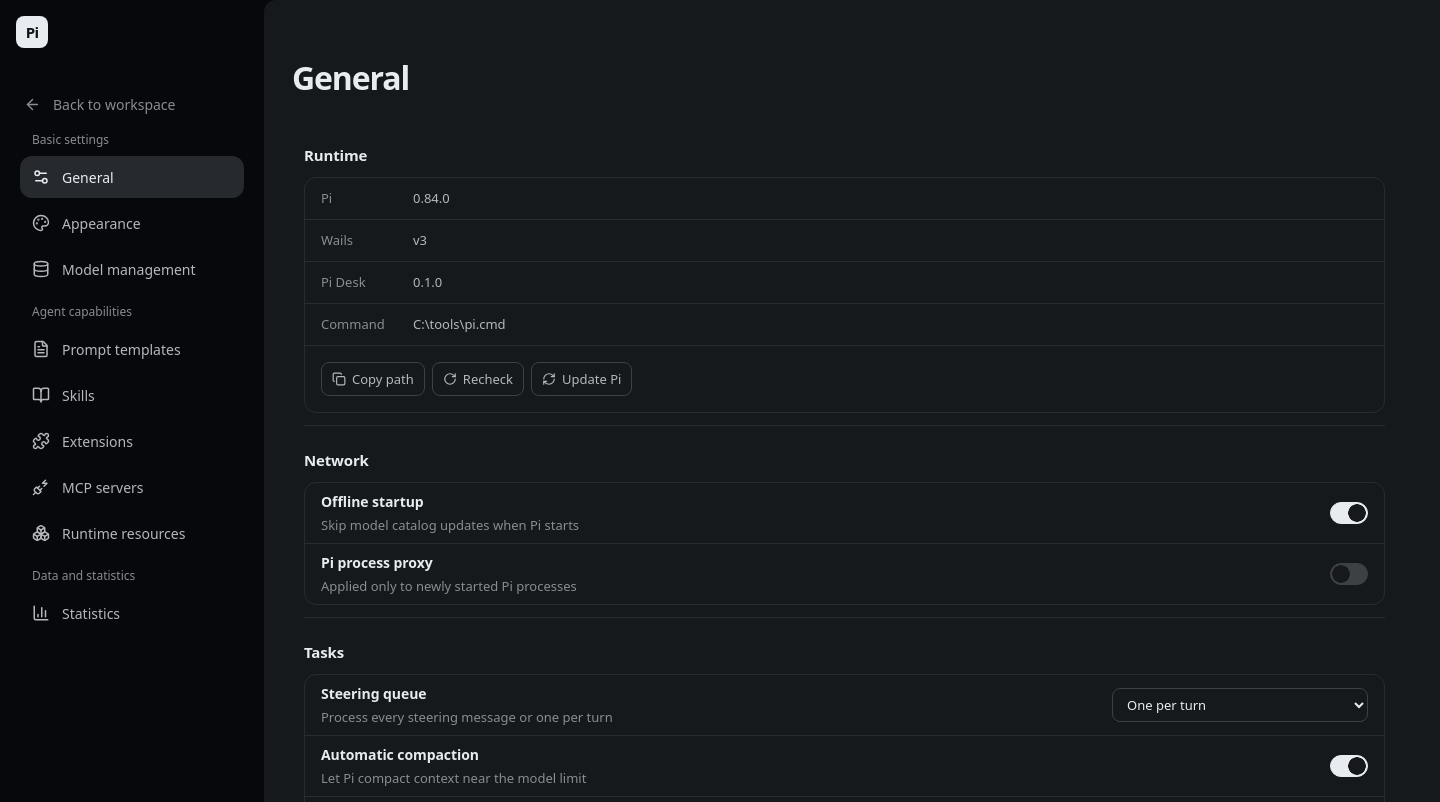
it: SettingsDialog › does not update Pi while a task is actively running
Click the button with test id "update-pi": (582, 379) x1=531 y1=362 x2=632 y2=396
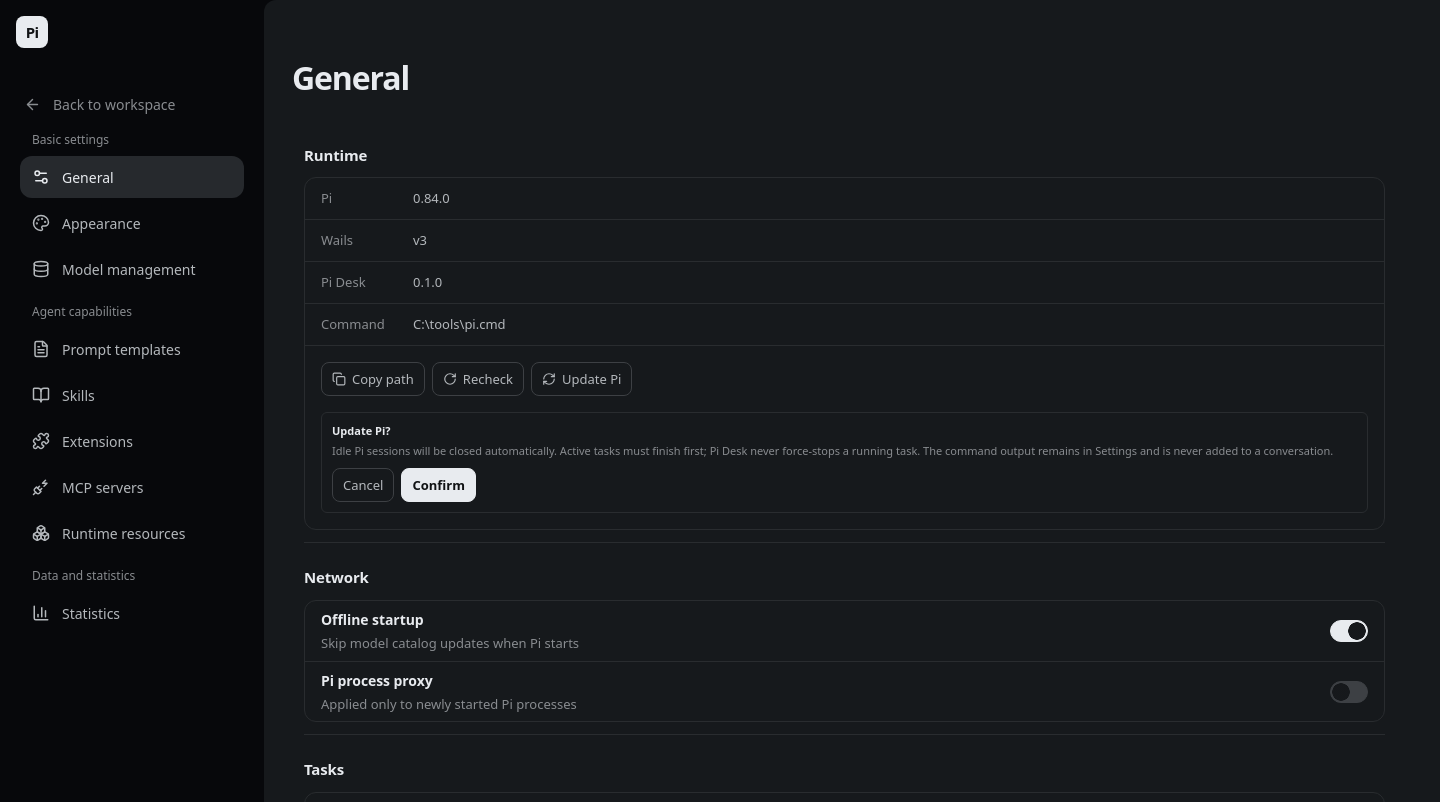
Click the button with test id "confirm-pi-maintenance": (439, 486) x1=402 y1=468 x2=476 y2=502
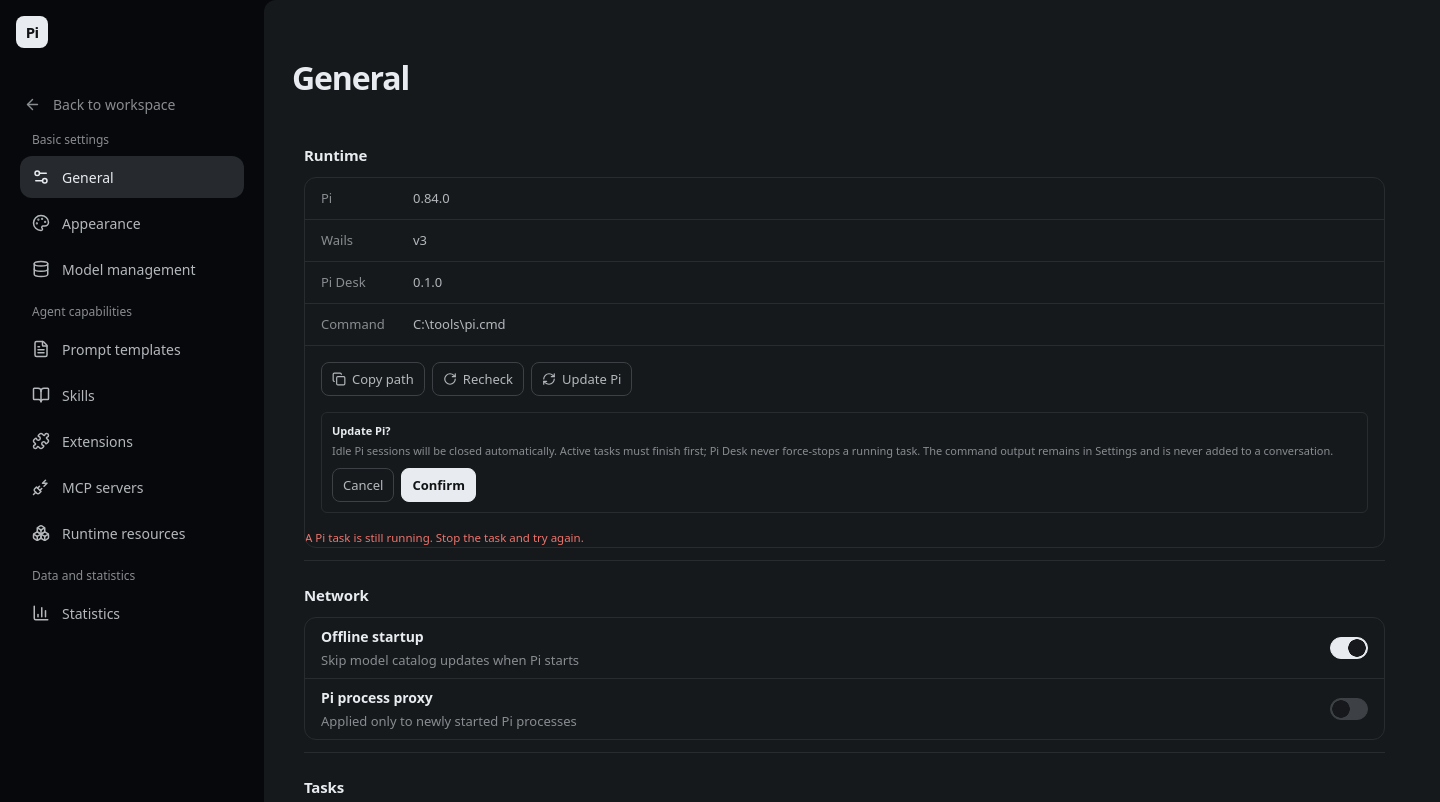
Check: the text "A Pi task is still running" is shown, box x1=305 y1=530 x2=584 y2=546
